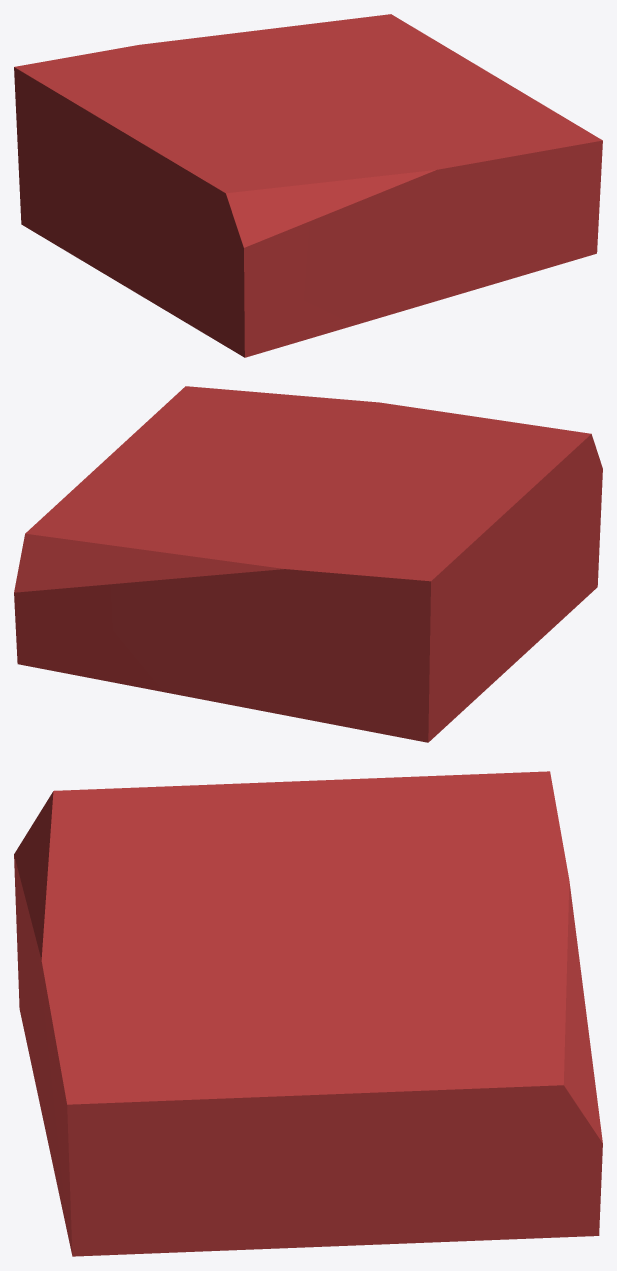
The model's file is ea_arch_wall03_rubble_01b_pre__21__8_lev1.glb.
3 views of the same model, one above another, from view 1: azimuth 30°, elevation 25°; view 2: azimuth 150°, elevation 25°; view 3: azimuth 270°, elevation 25° (orthographic). The views are drawn at different scales.
Visible parts, largest first — view 1: ea_arch_wall03_rubble_01b_pre__21__8_lev1; view 2: ea_arch_wall03_rubble_01b_pre__21__8_lev1; view 3: ea_arch_wall03_rubble_01b_pre__21__8_lev1.
Part boxes in pixels (x1=…): ea_arch_wall03_rubble_01b_pre__21__8_lev1: x1=14, y1=14, x2=602, y2=357; ea_arch_wall03_rubble_01b_pre__21__8_lev1: x1=14, y1=386, x2=602, y2=742; ea_arch_wall03_rubble_01b_pre__21__8_lev1: x1=14, y1=771, x2=602, y2=1256.
Bounding box in the file's own units: 0.1602 × 0.0587 × 0.1459.
Materials: 1 (1 with a texture image).
